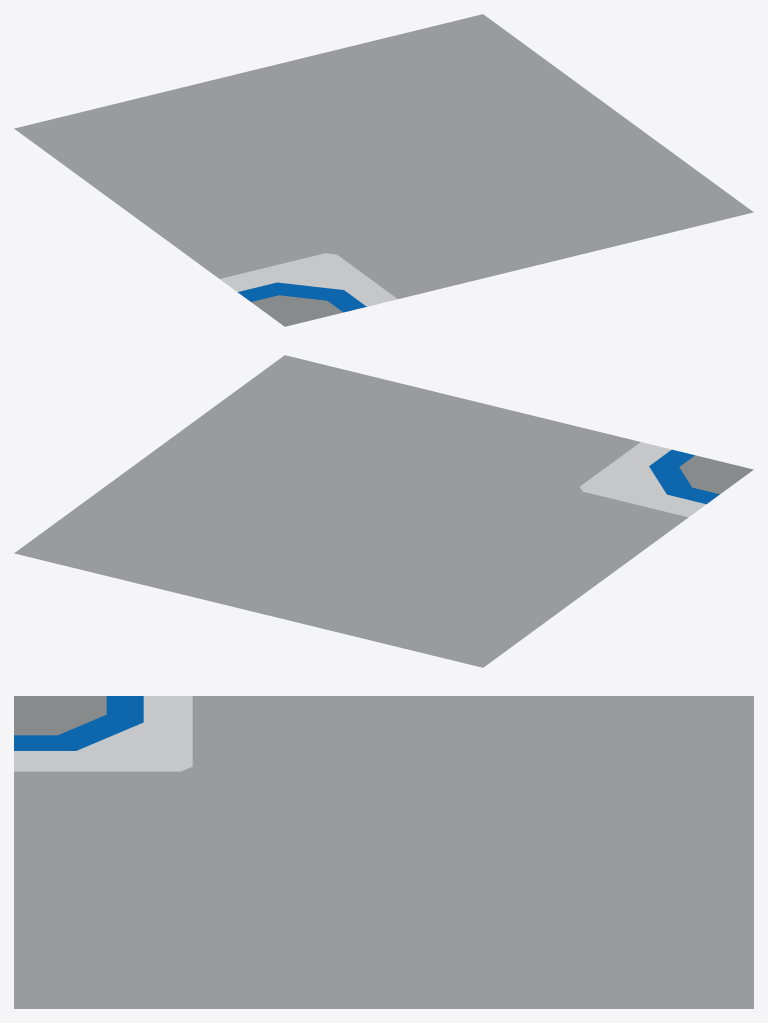
The model's file is Ceiling_type_A_026.fbx.
The picture shows the model from 3 angles, top to bottom: view 1: azimuth 30°, elevation 25°; view 2: azimuth 150°, elevation 25°; view 3: azimuth 270°, elevation 25°; orthographic projection. The views are drawn at different scales.
Parts seen in each view (by area): view 1: Ceiling_type_A_026; view 2: Ceiling_type_A_026; view 3: Ceiling_type_A_026.
Boxes of the visible parts, <box> form: Ceiling_type_A_026: <box>14,14,753,326</box>; Ceiling_type_A_026: <box>14,355,753,667</box>; Ceiling_type_A_026: <box>14,696,753,1008</box>.
Bounding box in the file's own units: 400 × 400 × 6.18.
